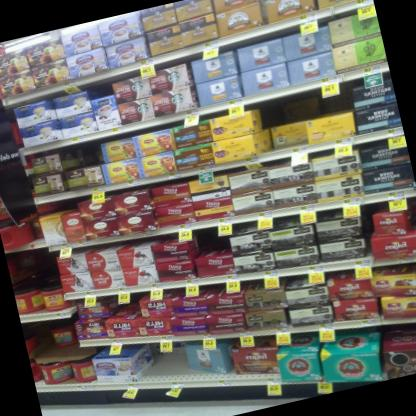empty_space: (139, 341, 187, 383)
